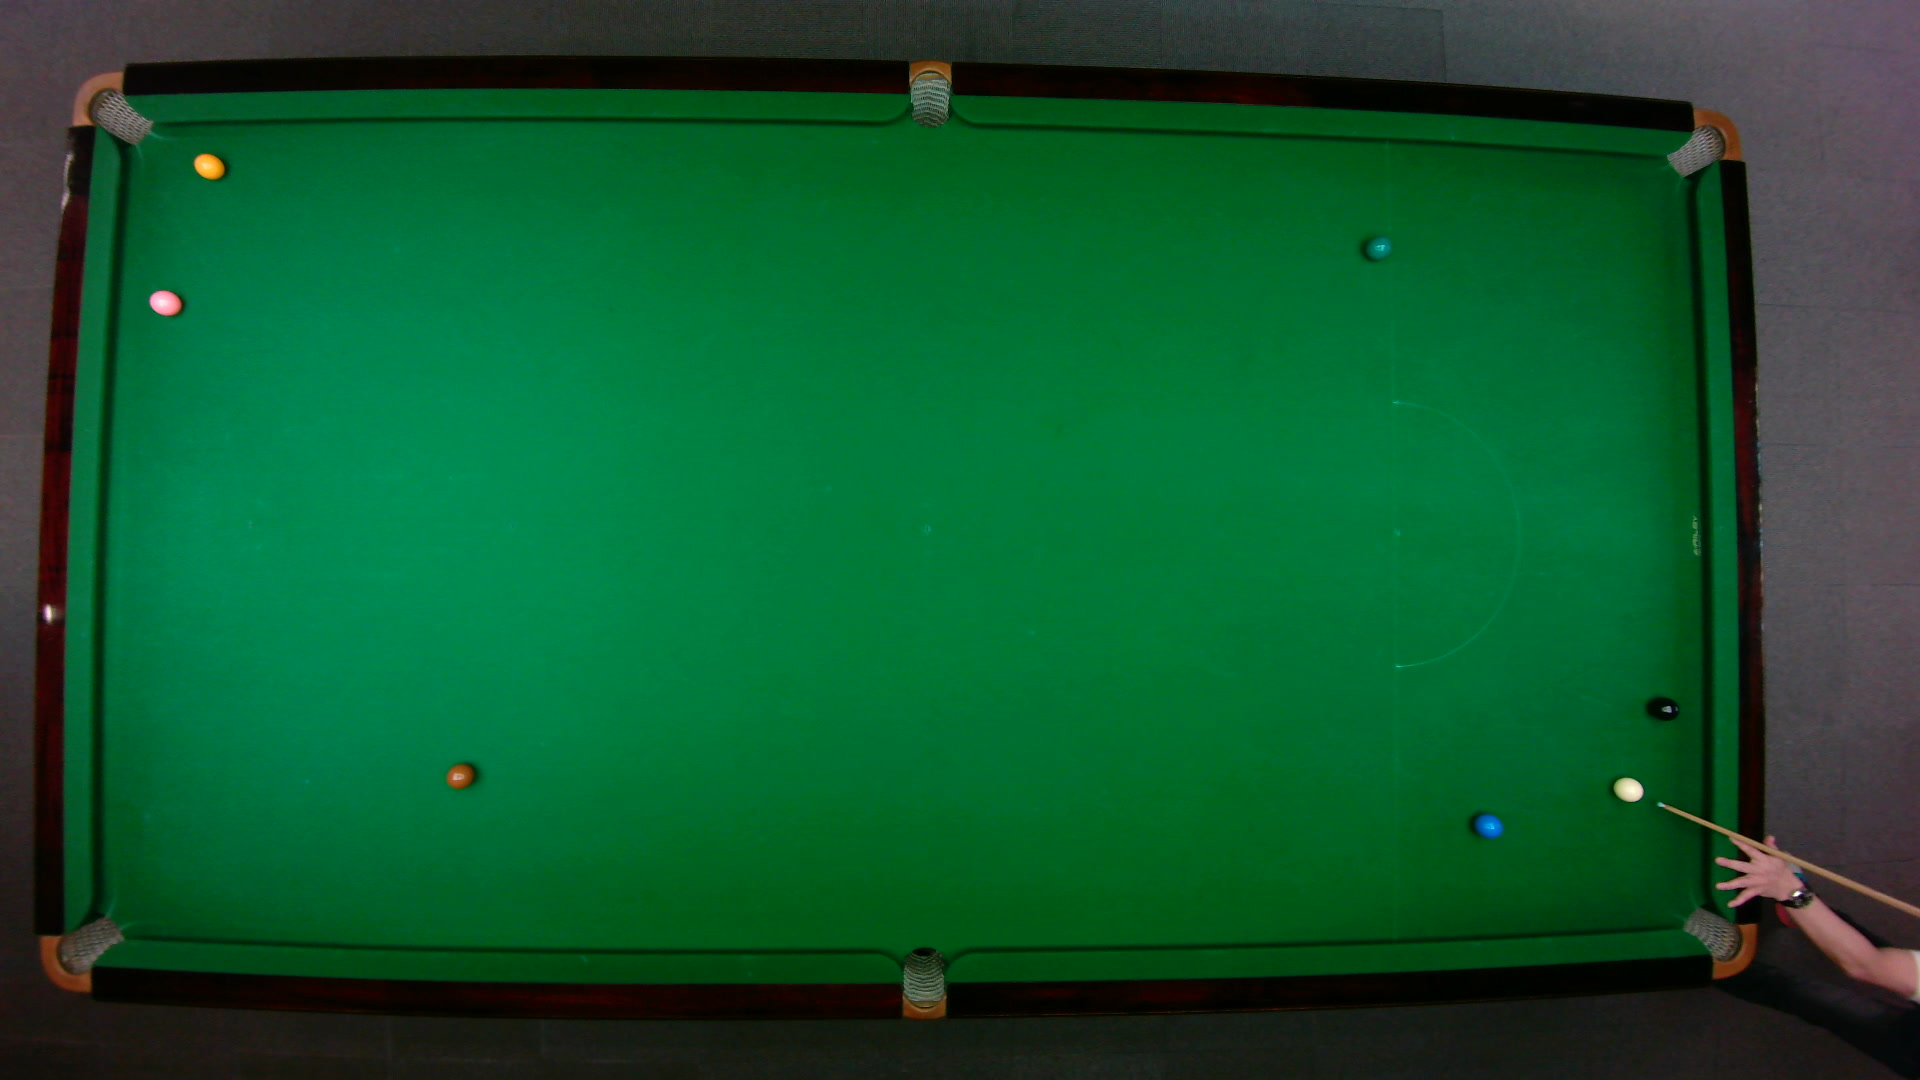bag: (37, 914, 125, 992), (69, 69, 152, 145), (1679, 905, 1756, 978), (1663, 107, 1741, 178), (901, 944, 944, 1021), (909, 57, 949, 128)
black: (1650, 696, 1679, 720)
blue: (1472, 812, 1505, 839)
brown: (444, 761, 473, 789)
cue: (1654, 798, 1920, 922)
green: (1362, 233, 1391, 260)
pink: (146, 287, 183, 316)
white: (1611, 775, 1644, 800)
yellow: (193, 152, 225, 179)
zone: (1390, 400, 1520, 667)
